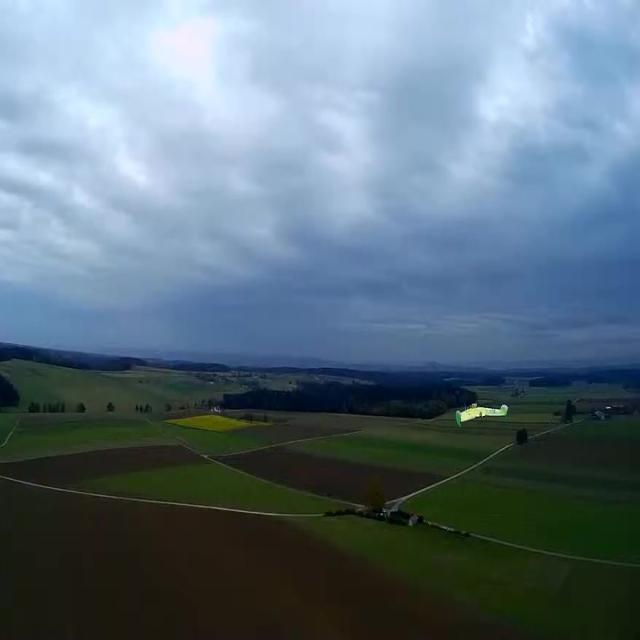iha: (455, 400, 508, 428)
